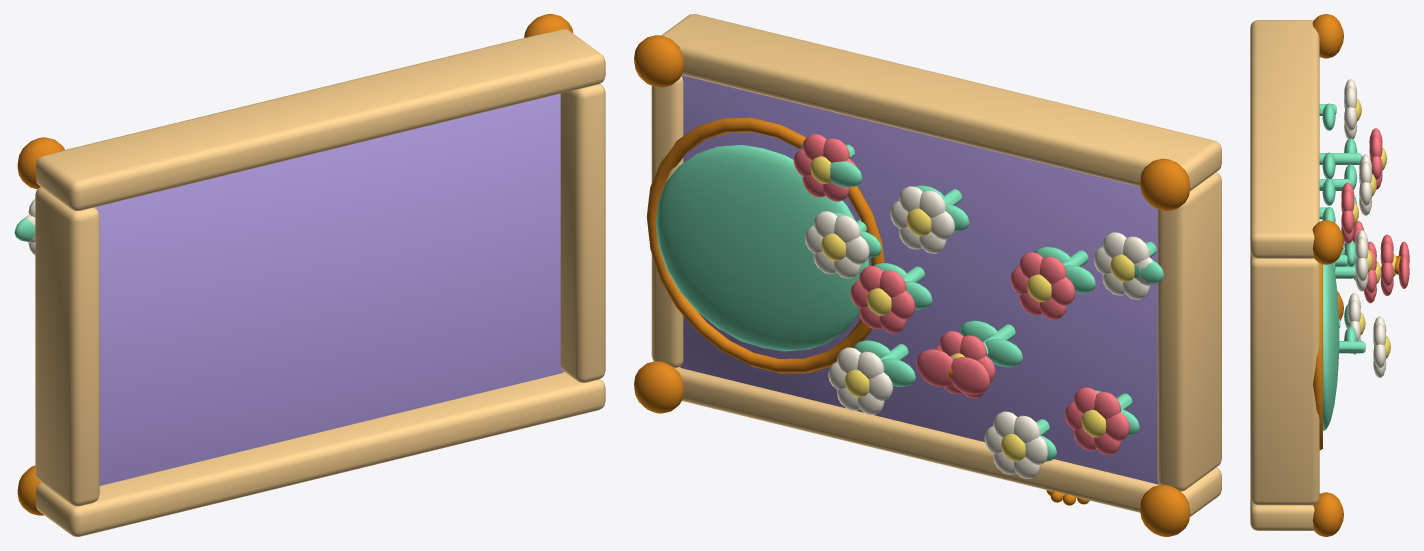
Rendered from GardenDaisyBed_Premium.fbx.
3 views of the same model, side by side, from view 1: azimuth 30°, elevation 25°; view 2: azimuth 150°, elevation 25°; view 3: azimuth 270°, elevation 25° (orthographic). The views are drawn at different scales.
Parts seen in each view (by area): view 1: GardenDaisyBed; view 2: GardenDaisyBed; view 3: GardenDaisyBed.
Part boxes in pixels (box(x1,y1,x2,y2)): GardenDaisyBed: box(14, 14, 605, 536); GardenDaisyBed: box(634, 14, 1221, 536); GardenDaisyBed: box(1250, 14, 1409, 536).
Size of the model in its own units: 1.13 by 0.739 by 0.34.
